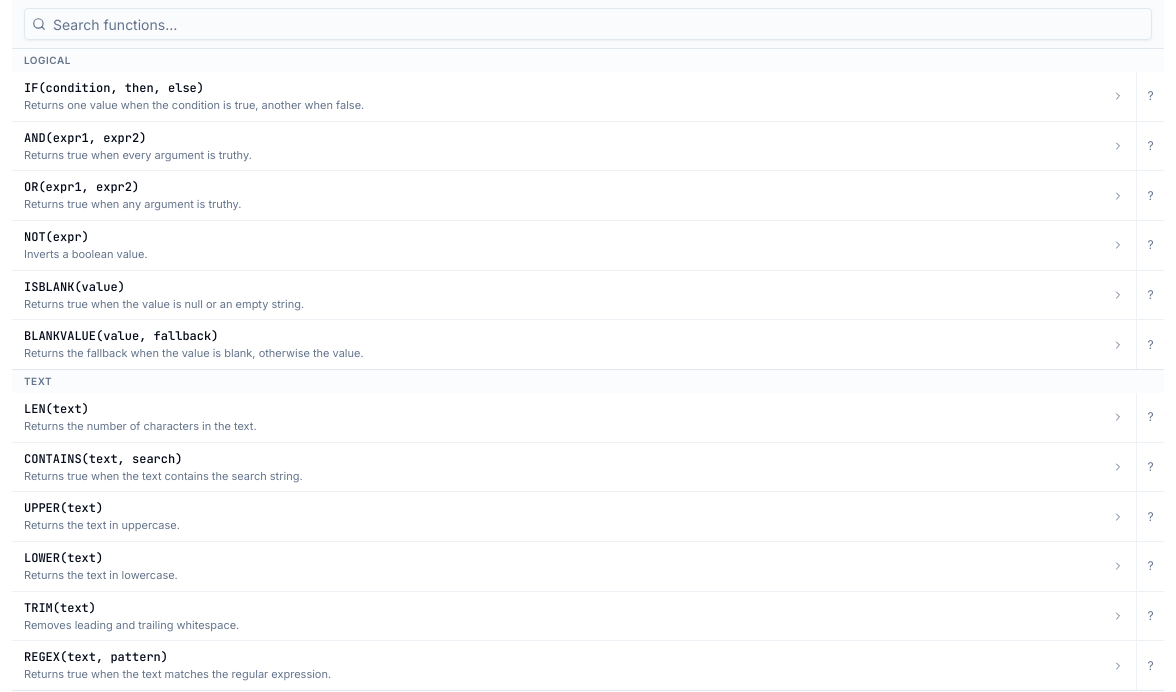
Scenario: FunctionsTab › expands the docs panel when the help button is pressed
The width and height of the screenshot is (1176, 692).
What coordinates should you click on to do the following:
click the button named "Show details for IF"
I would click on:
 (1150, 96)
Its box is [1136,72,1164,121].
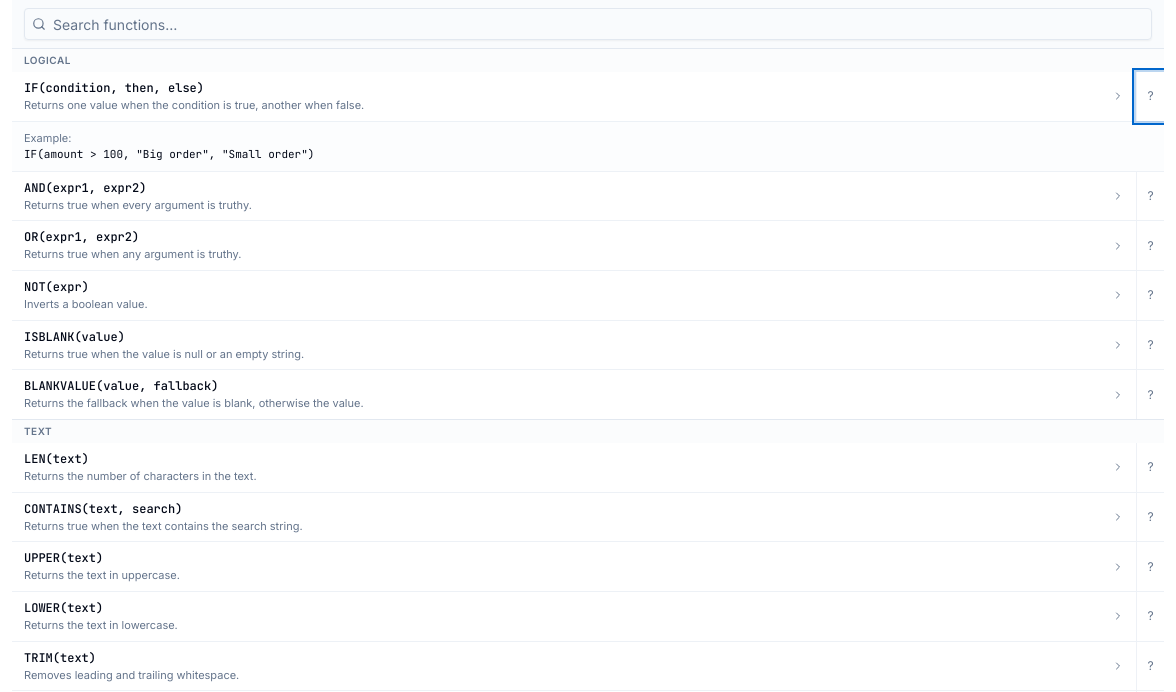
Result: the text "Example:" is shown at [24,131,71,145]
Result: the text "IF(amount > 100, \"Big order\", \"Small order\")" is shown at [24,147,314,161]
